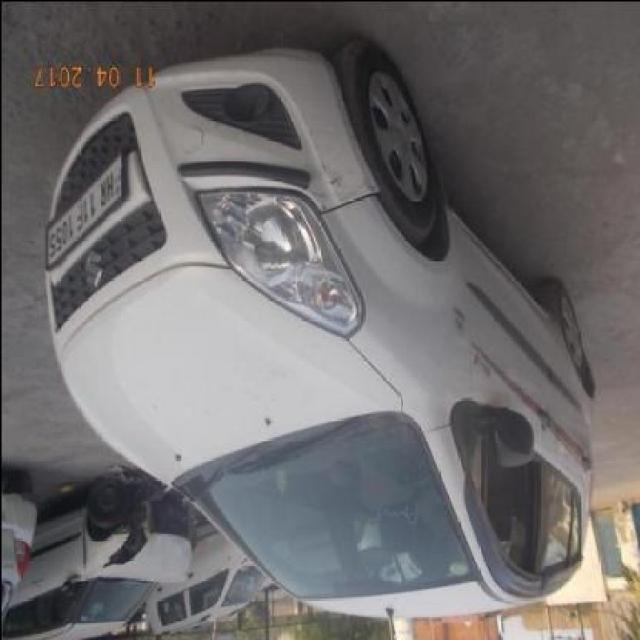damage: (301, 121, 373, 202), (321, 168, 341, 197)
